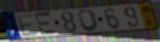6: (103, 7, 121, 30)
8: (60, 10, 78, 34)
9: (123, 5, 141, 29)
E: (34, 11, 59, 37), (16, 13, 41, 38)
O: (77, 8, 101, 33)
